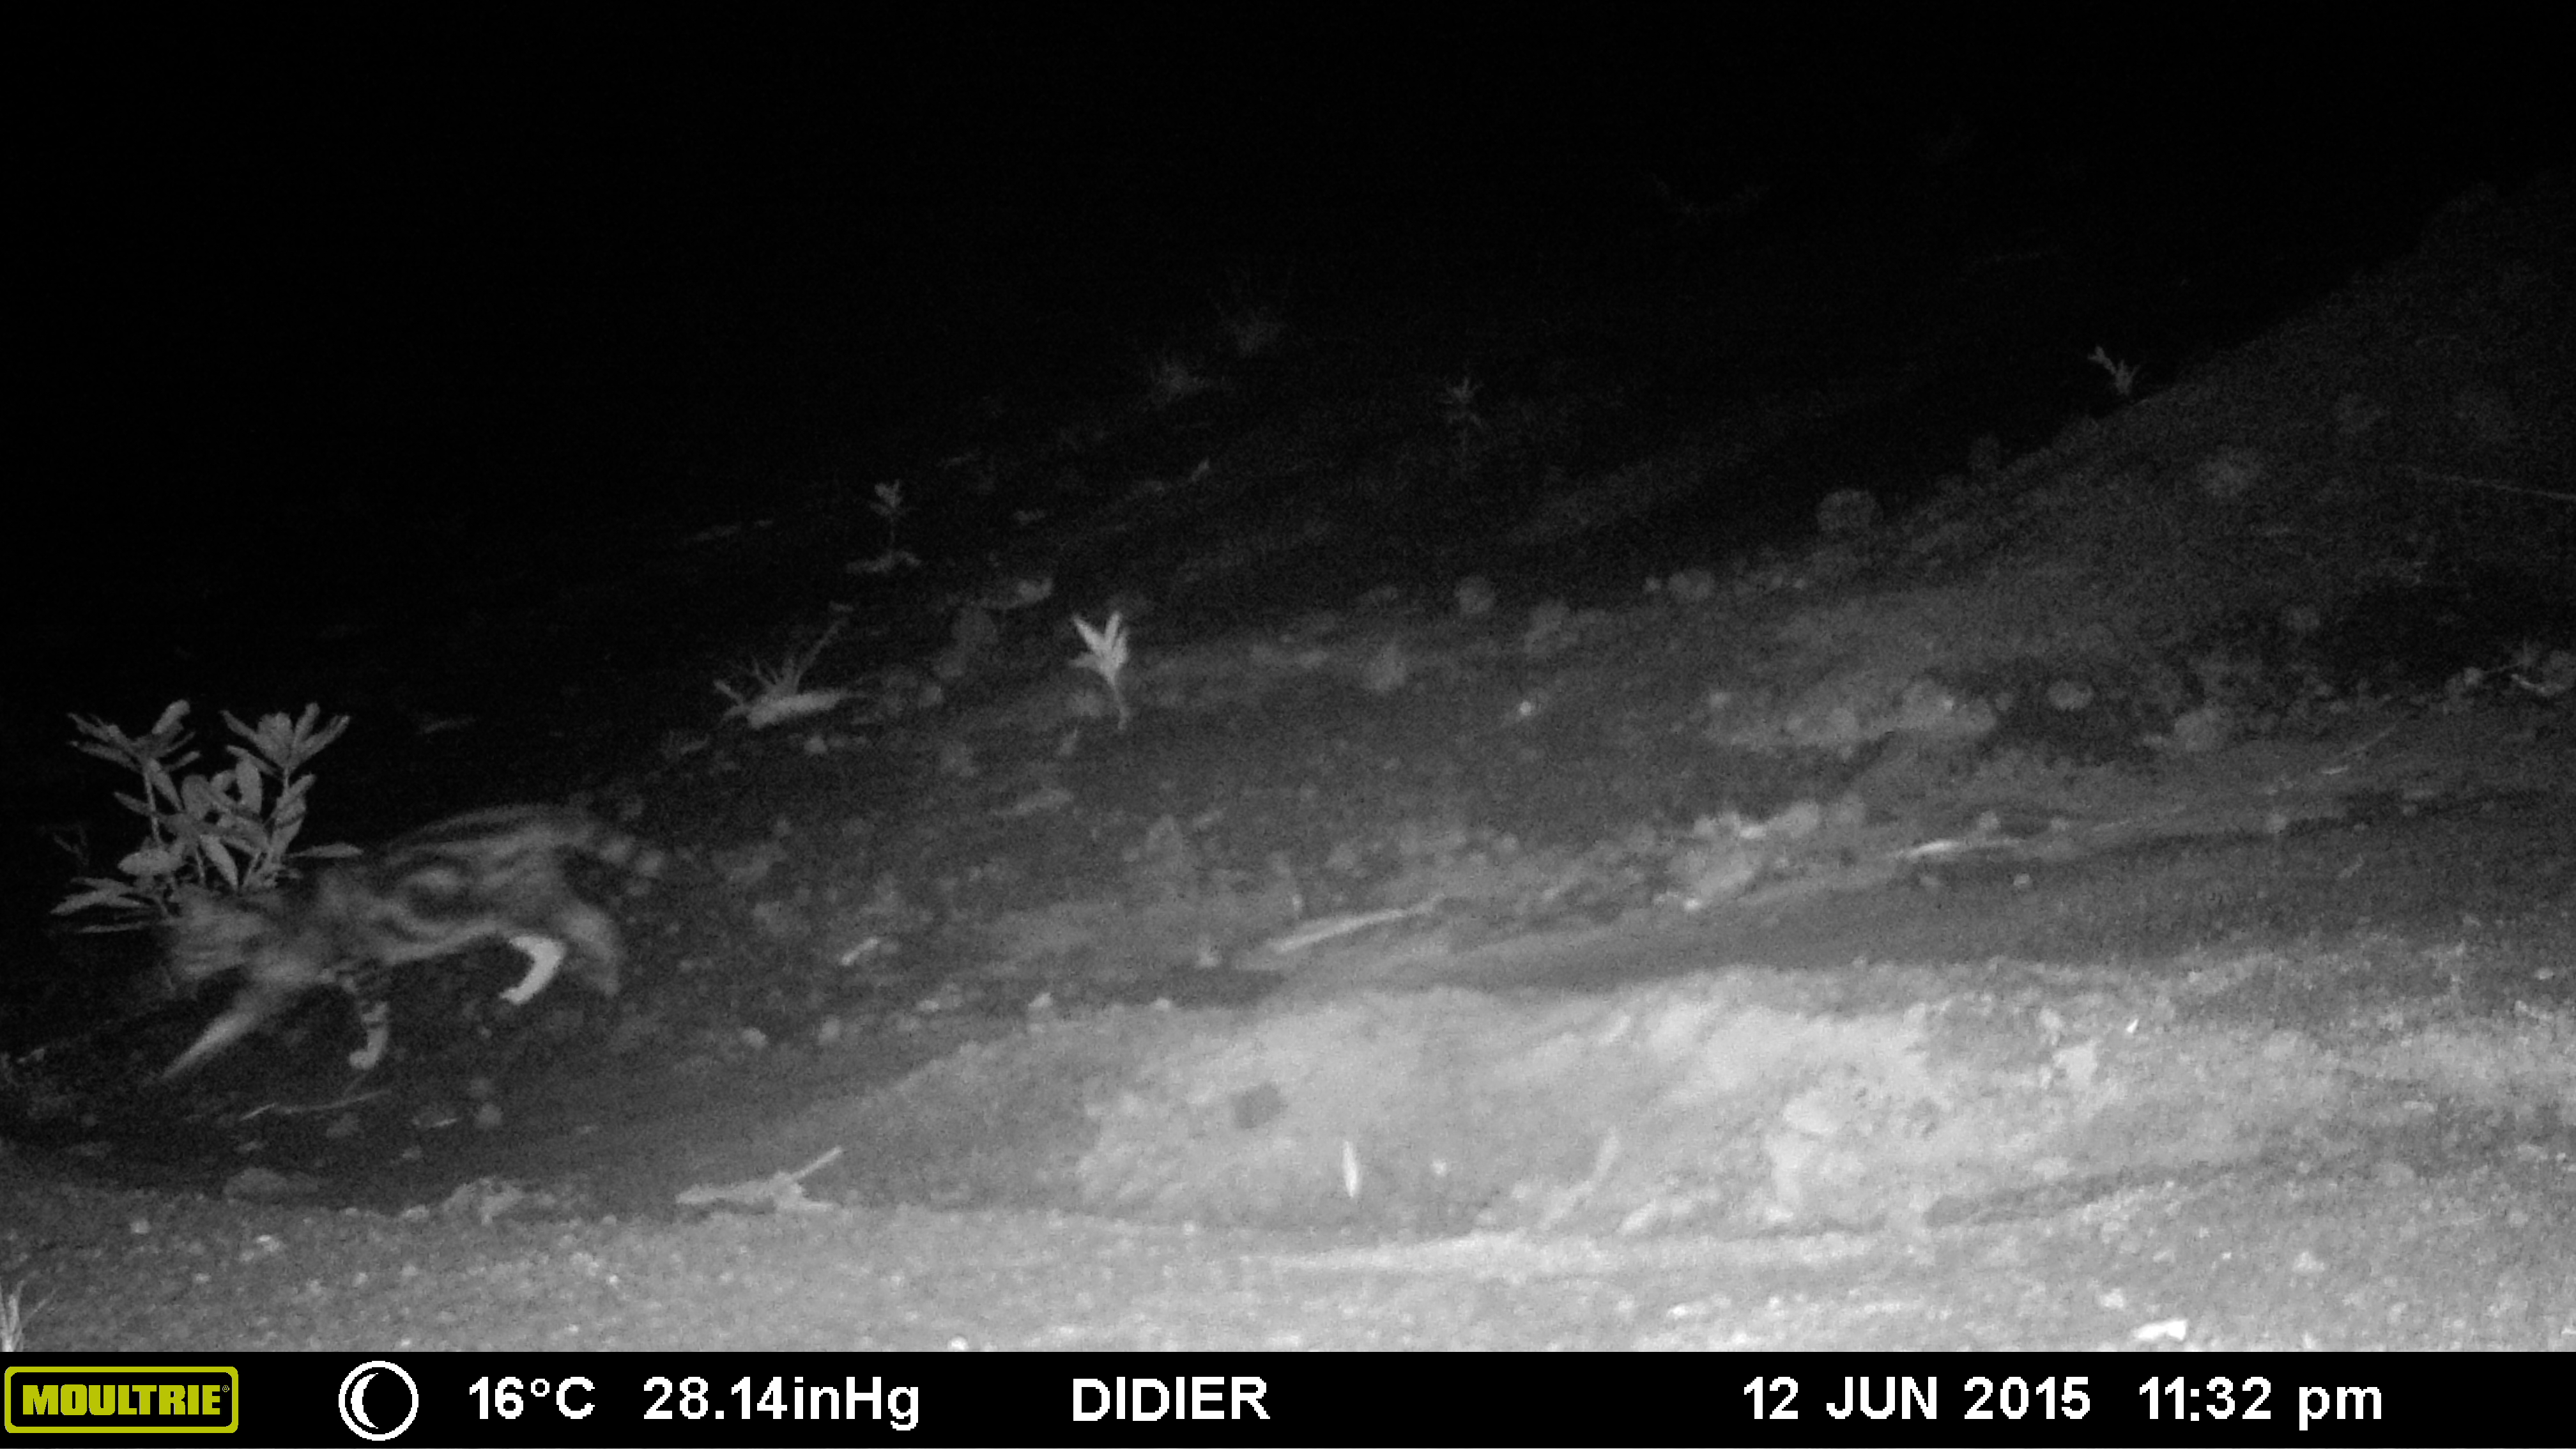cat: (126, 768, 754, 1102)
